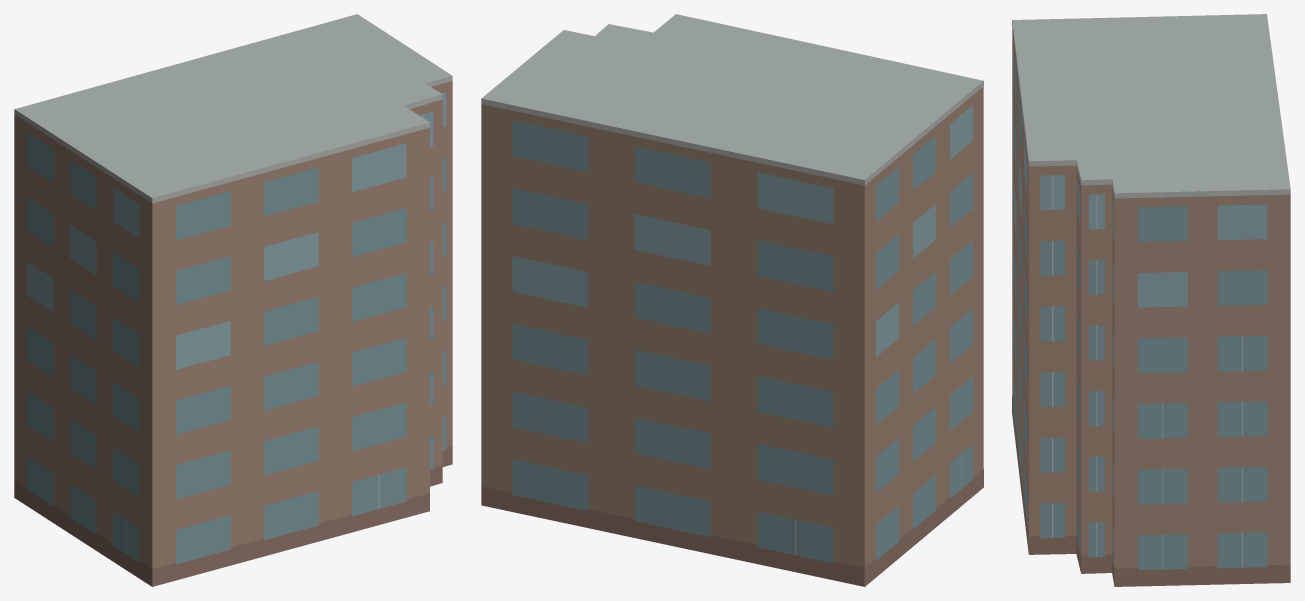
File: survey-upis-32587494.glb
3 views of the same model, side by side, from view 1: azimuth 30°, elevation 25°; view 2: azimuth 150°, elevation 25°; view 3: azimuth 270°, elevation 25° (orthographic). The views are drawn at different scales.
Parts seen in each view (by area): view 1: survey-upis-32587494.tmp; view 2: survey-upis-32587494.tmp; view 3: survey-upis-32587494.tmp.
Part boxes in pixels (x1,y1,x2,y2): survey-upis-32587494.tmp: (14,14,452,586); survey-upis-32587494.tmp: (481,14,983,586); survey-upis-32587494.tmp: (1012,14,1290,586).
Size of the model in its own units: 17.89 by 18.3 by 11.75.
